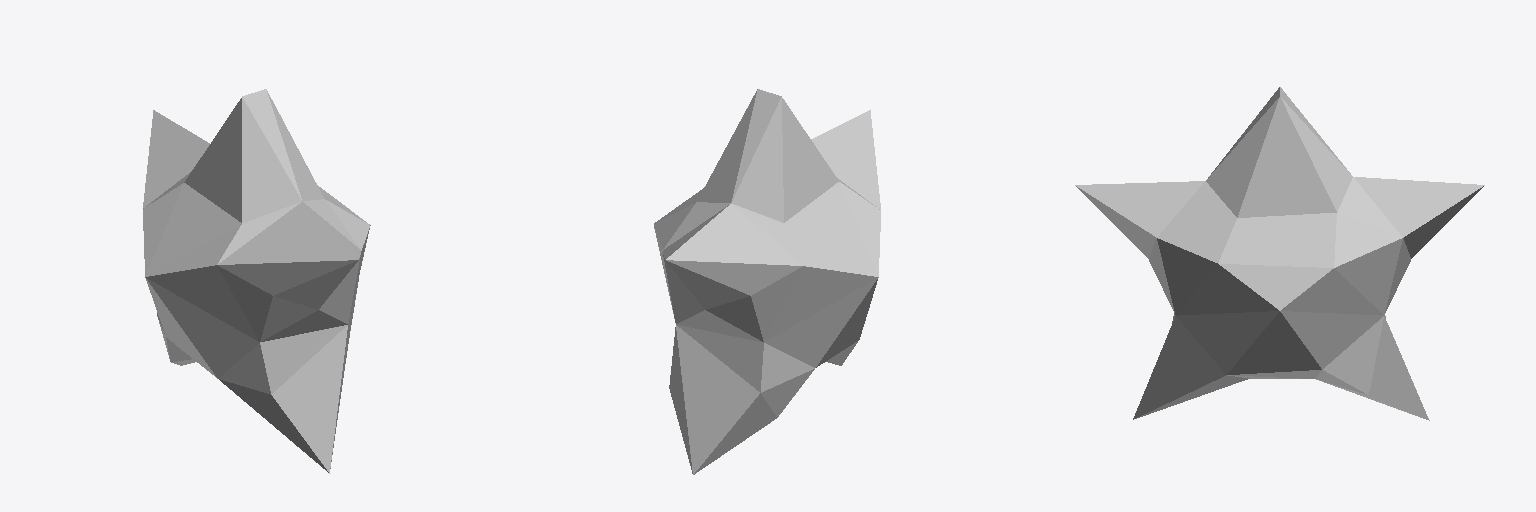
File: liver.obj
3 renders of one model, left to right at view 1: azimuth 30°, elevation 25°; view 2: azimuth 150°, elevation 25°; view 3: azimuth 270°, elevation 25°, orthographic.
Parts seen in each view (by area): view 1: Sphere; view 2: Sphere; view 3: Sphere.
Boxes of the visible parts, x1=… form: Sphere: x1=143, y1=89, x2=370, y2=473; Sphere: x1=654, y1=89, x2=880, y2=474; Sphere: x1=1075, y1=87, x2=1484, y2=420.
Bounding box in the file's own units: 2.45 × 3.49 × 3.94.